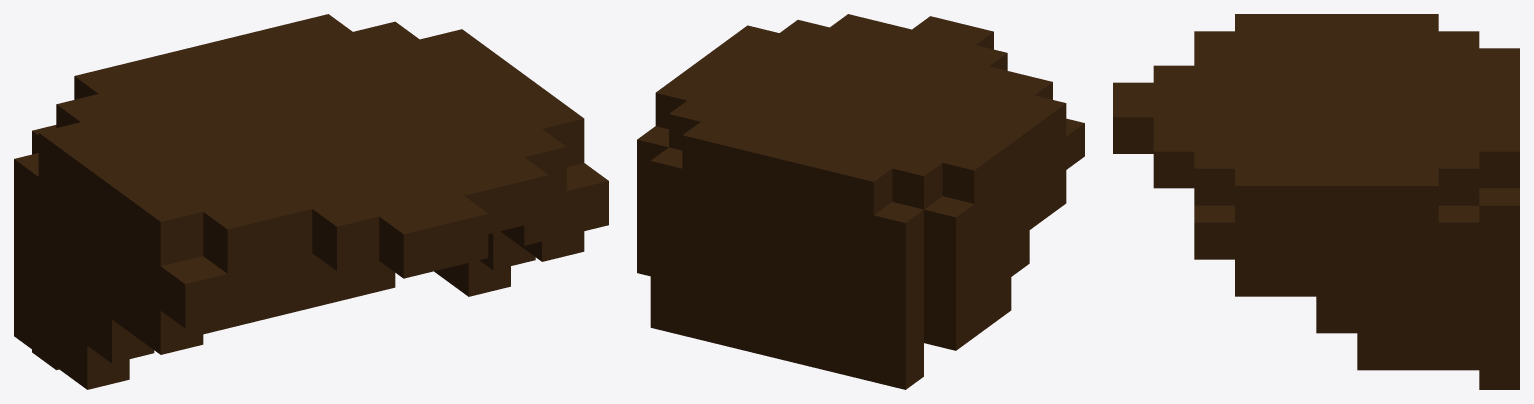
Rendered from Character_Hair.fbx.
3 views of the same model, side by side, from view 1: azimuth 30°, elevation 25°; view 2: azimuth 150°, elevation 25°; view 3: azimuth 270°, elevation 25° (orthographic). The views are drawn at different scales.
Size of the model in its own units: 10 by 6 by 10.
1 material, 1 textured.
